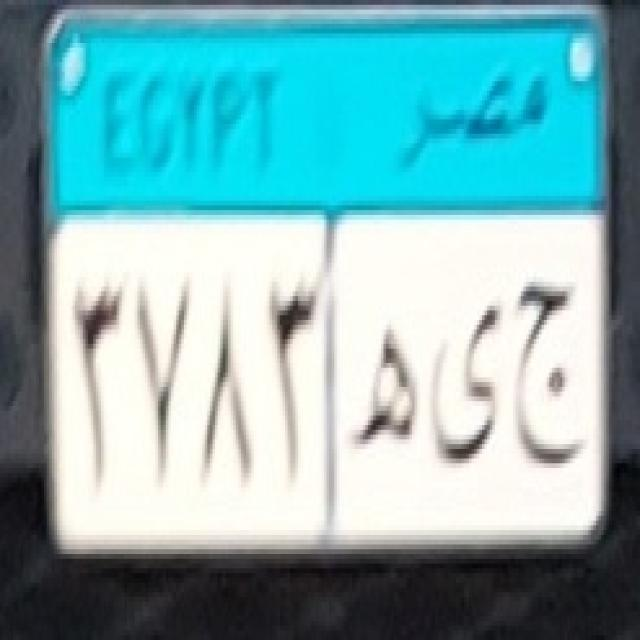3: (66, 258, 134, 500), (262, 272, 321, 494)
7: (126, 266, 205, 492)
8: (196, 277, 268, 497)
Heeh: (354, 306, 421, 464)
Yeeh: (428, 276, 501, 484)
geem: (508, 282, 592, 475)
